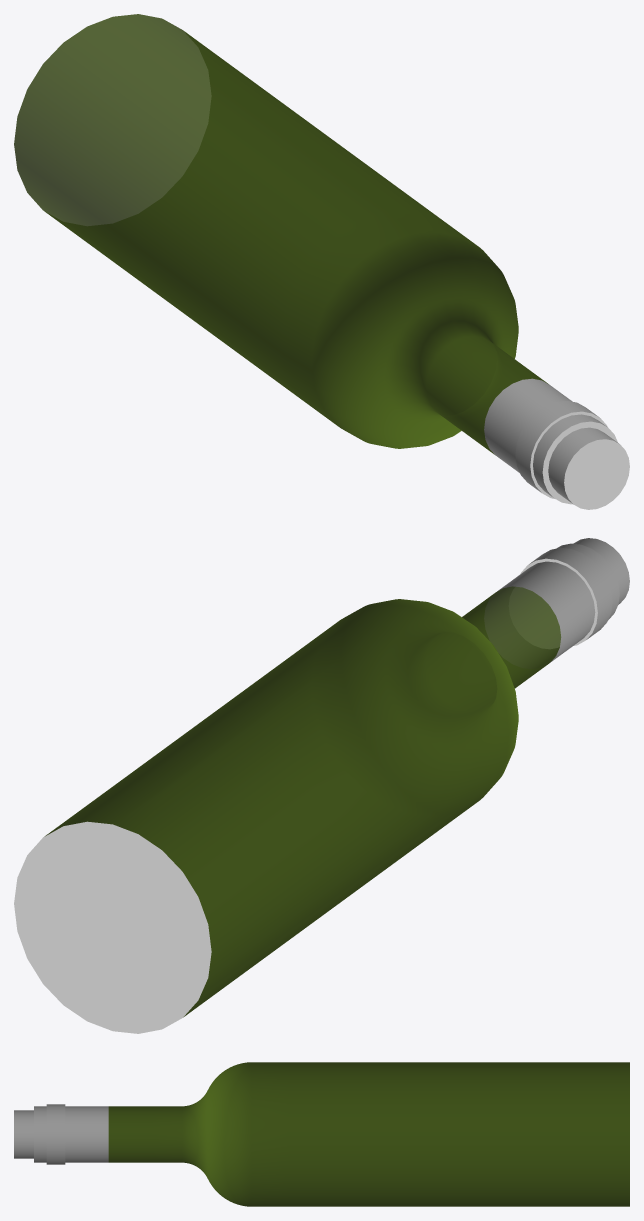
The model's file is model_align.obj.
3 views of the same model, one above another, from view 1: azimuth 30°, elevation 25°; view 2: azimuth 150°, elevation 25°; view 3: azimuth 270°, elevation 25° (orthographic). The views are drawn at different scales.
Parts seen in each view (by area): view 1: mesh1_mesh1-geometry; view 2: mesh1_mesh1-geometry; view 3: mesh1_mesh1-geometry.
Part boxes in pixels (left/top/right/bottom): mesh1_mesh1-geometry: left=14, top=14, right=629, bottom=509; mesh1_mesh1-geometry: left=14, top=538, right=629, bottom=1033; mesh1_mesh1-geometry: left=14, top=1062, right=629, bottom=1206.
Size of the model in its own units: 0.0568 by 0.0568 by 0.241.
